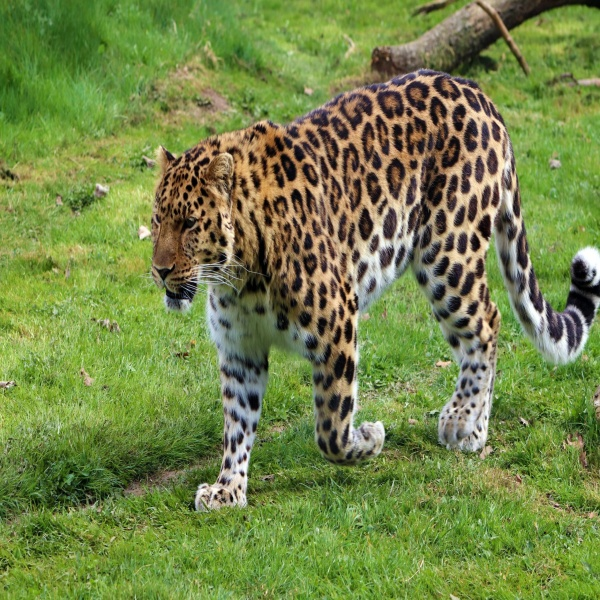Leopard: (145, 61, 600, 518)
